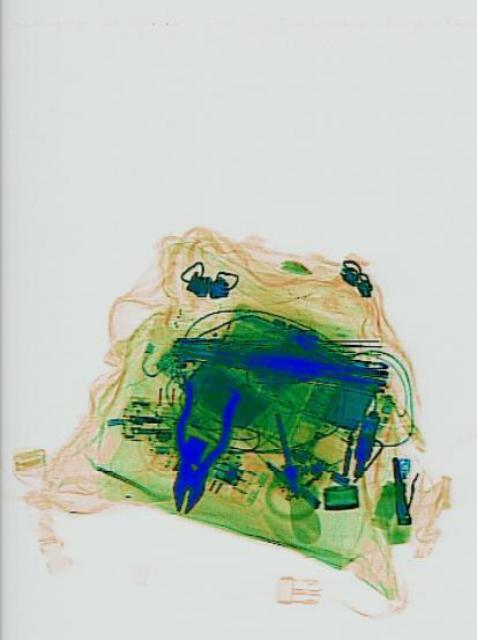Pliers: (152, 371, 239, 524)
